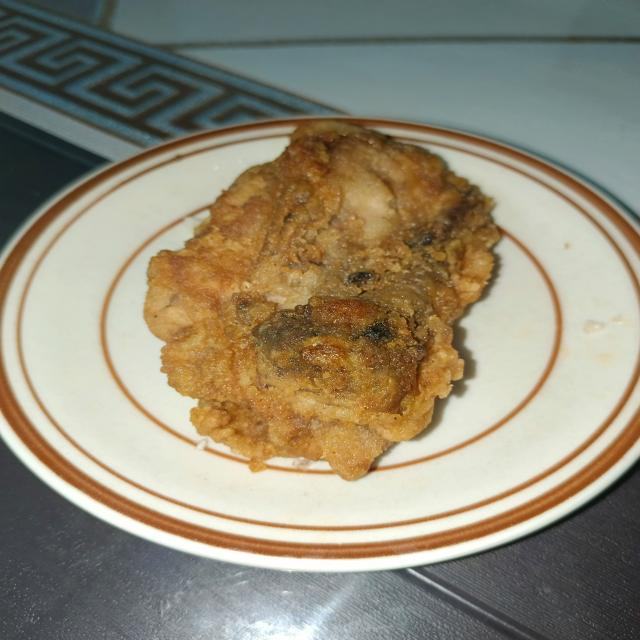Chicken -Fried Chicken-: (113, 96, 509, 498)
